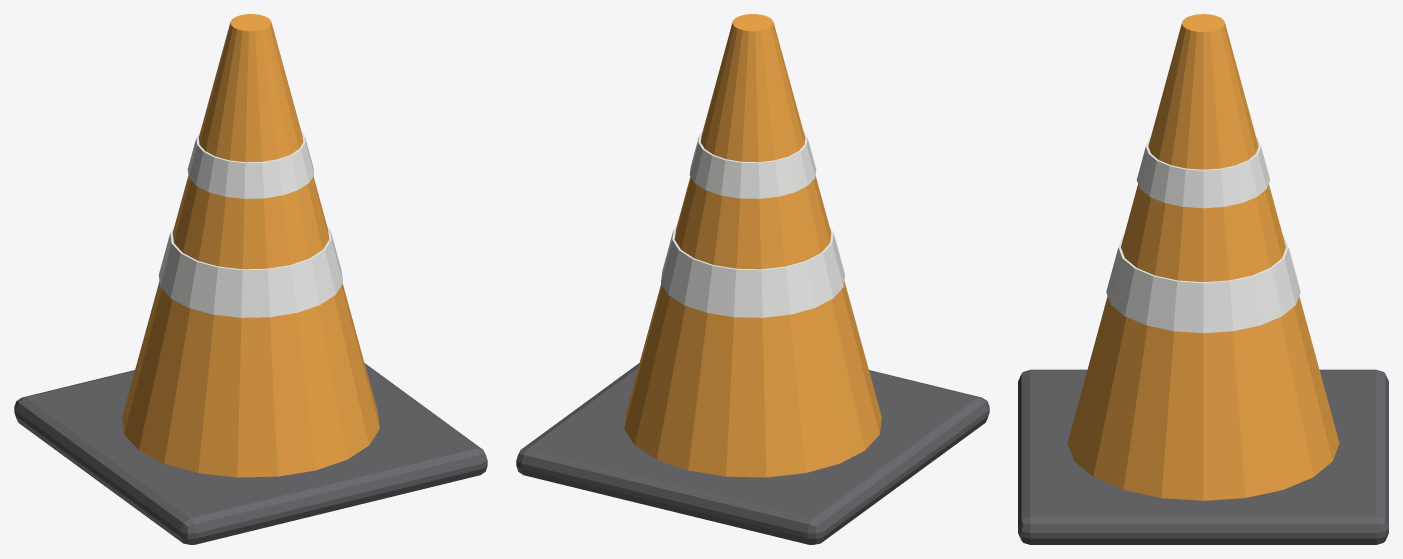
Rendered from TrafficConeModel.glb.
3 views of the same model, side by side, from view 1: azimuth 30°, elevation 25°; view 2: azimuth 150°, elevation 25°; view 3: azimuth 270°, elevation 25° (orthographic). The views are drawn at different scales.
Parts seen in each view (by area): view 1: TrafficConeModel; view 2: TrafficConeModel; view 3: TrafficConeModel.
Boxes of the visible parts, x1,y1,x2,y2 form: TrafficConeModel: [14, 14, 487, 544]; TrafficConeModel: [516, 14, 989, 544]; TrafficConeModel: [1018, 14, 1388, 544].
Bounding box in the file's own units: 0.6 × 0.8 × 0.6.
